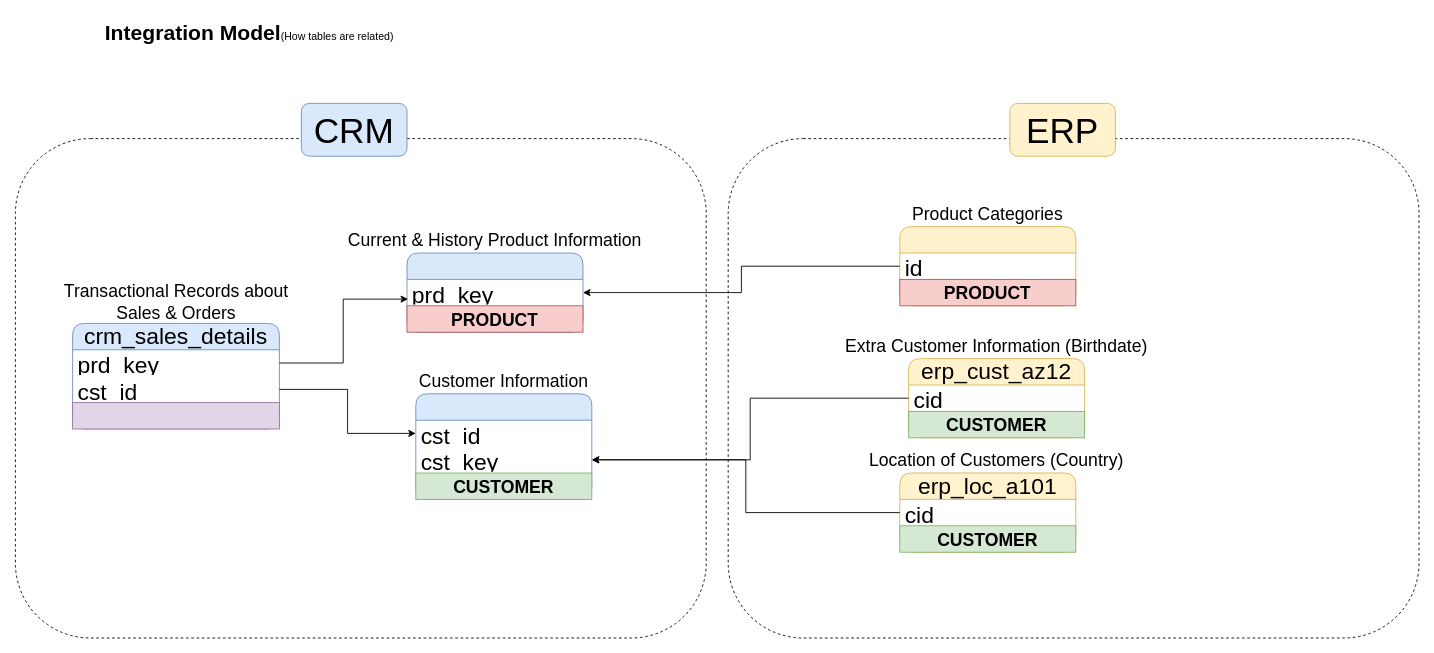
Image size: 1434x653. Some labels were removed from this diagram. The box of each missing label's shape, as (x1, y1, x2, y2) in pixels:
crm_cust_info: (415, 393, 592, 499)
crm_prd_info: (406, 252, 583, 332)
erp_cust_gtv2: (899, 226, 1076, 306)
SALES: (72, 402, 279, 429)
